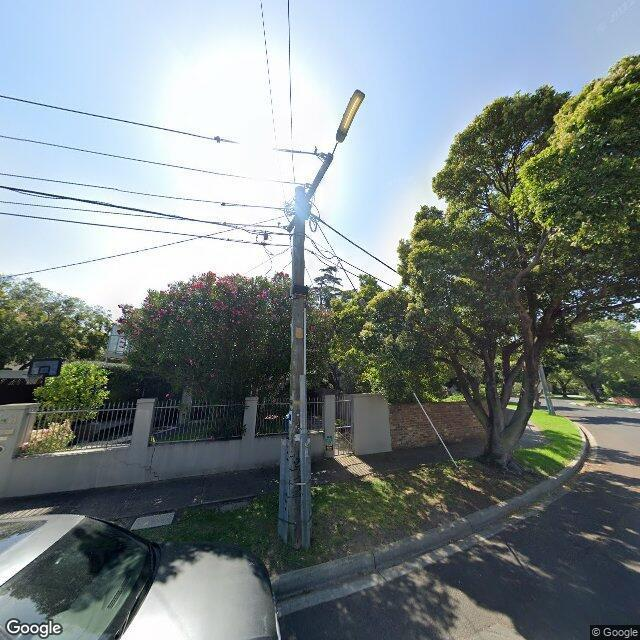crossarm: (286, 152, 334, 232)
streetlight: (332, 89, 366, 155)
timber-pole: (289, 186, 305, 545)
